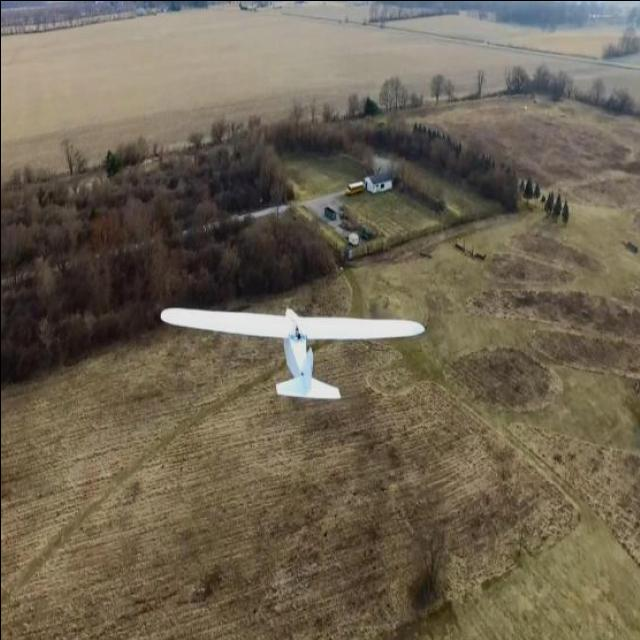plane: (159, 302, 426, 400)
